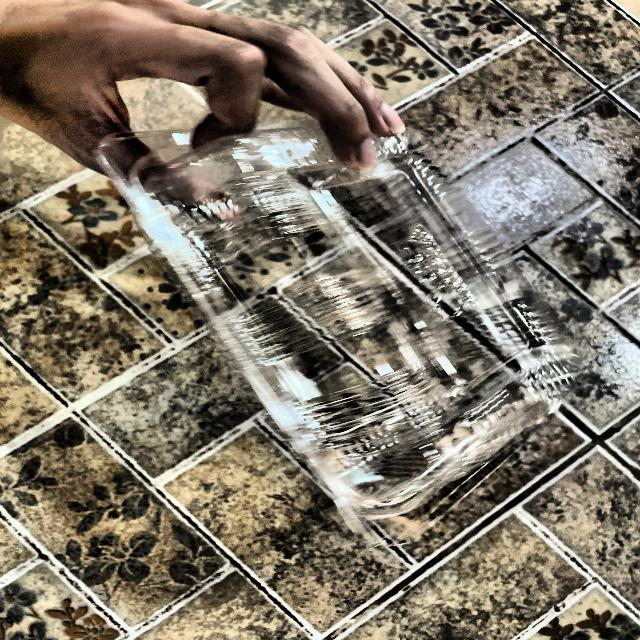plastic container: (67, 86, 599, 537)
